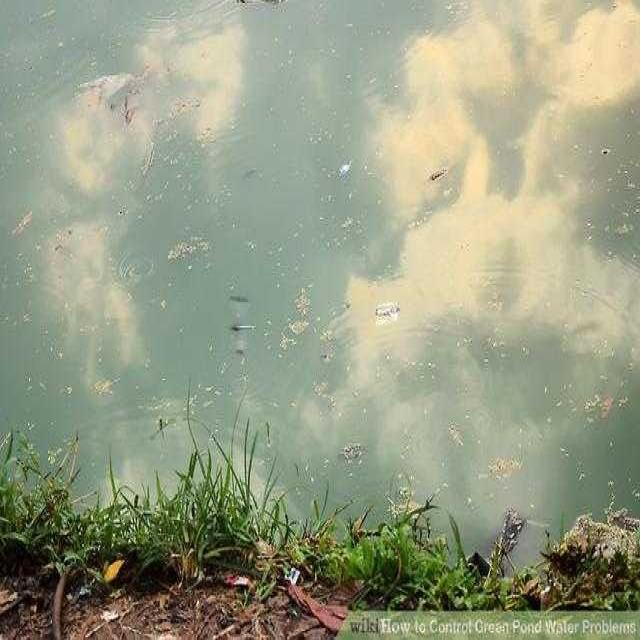Ponds: (2, 4, 640, 568)
